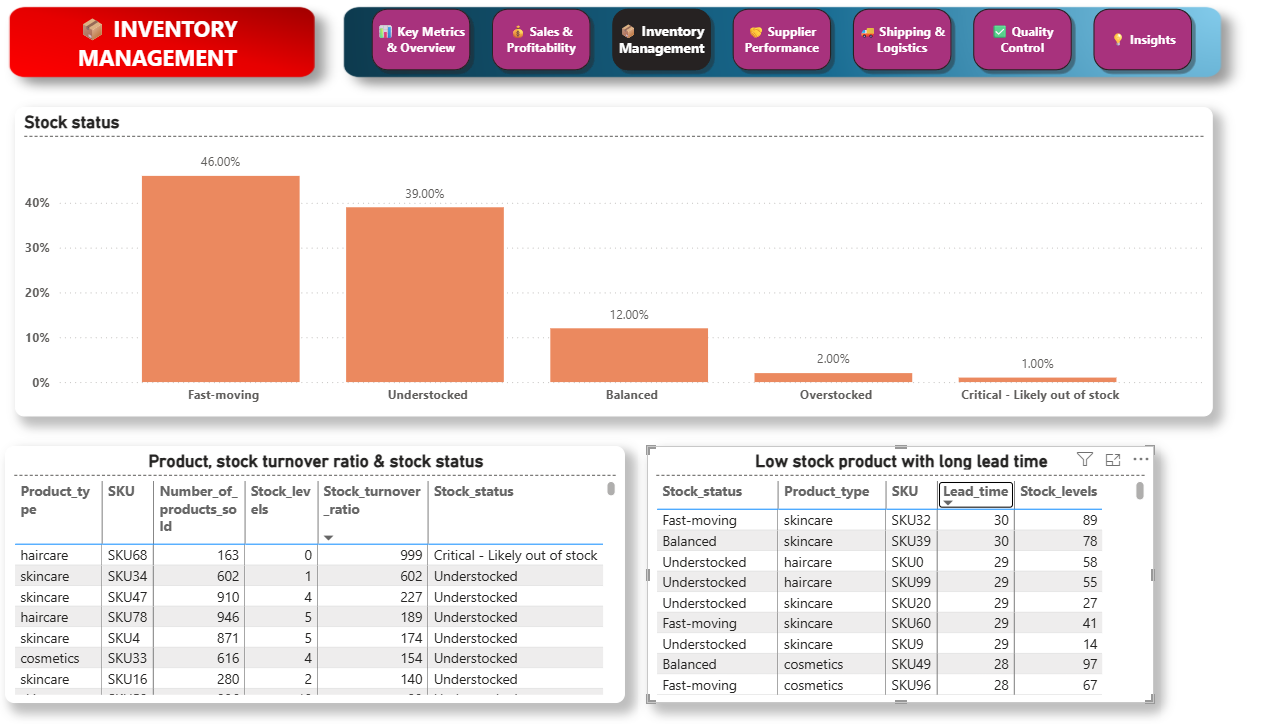

The page's visual inventory and layout, read from the dashboard file:
{"tool":"powerbi","page":{"name":"📦 Inventory Management","canvas":[1280,720],"ordinal":2},"visuals":[{"type":"clusteredColumnChart","title":"Stock status","fields":{"Category":["Stock_turnover_ratio.Stock_status"],"Y":["CountNonNull(Stock_turnover_ratio.Stock_status)"]},"box":[55.4,118.7,1165.2,300.5],"z":0},{"type":"tableEx","title":"Product, stock turnover ratio & stock status","fields":{"Values":["Stock_turnover_ratio.Product_type","Stock_turnover_ratio.SKU","Stock_turnover_ratio.Number_of_products_sold","Stock_turnover_ratio.Stock_levels","Stock_turnover_ratio.Stock_turnover_ratio","Stock_turnover_ratio.Stock_status"]},"box":[45.7,448.4,603,250],"z":1000},{"type":"tableEx","title":"Low stock product with long lead time","fields":{"Values":["Stock_turnover_ratio.Stock_status","Stock_turnover_ratio.Product_type","Stock_turnover_ratio.SKU","supply2.Lead_time","Stock_turnover_ratio.Stock_levels"]},"box":[670.2,448.4,493.1,250],"z":2000},{"type":"image","box":[44.7,17.5,1209,91.4],"z":3000},{"type":"pageNavigator","box":[396.8,17.5,811.2,71],"z":4000},{"type":"textbox","box":[45.7,22.4,296.7,71],"z":5000}]}

Visuals, with their boxes in screenshot pixels (x1, y1, x2, y2), scaled from the page's 1280x720 canvas onto the 1266x724 screenshot:
"Stock status" clusteredColumnChart: pyautogui.locateOnScreen(55, 119, 1207, 422)
"Product, stock turnover ratio & stock status" tableEx: pyautogui.locateOnScreen(45, 451, 642, 702)
"Low stock product with long lead time" tableEx: pyautogui.locateOnScreen(663, 451, 1151, 702)
image: pyautogui.locateOnScreen(44, 18, 1240, 110)
pageNavigator: pyautogui.locateOnScreen(392, 18, 1195, 89)
textbox: pyautogui.locateOnScreen(45, 23, 339, 94)
